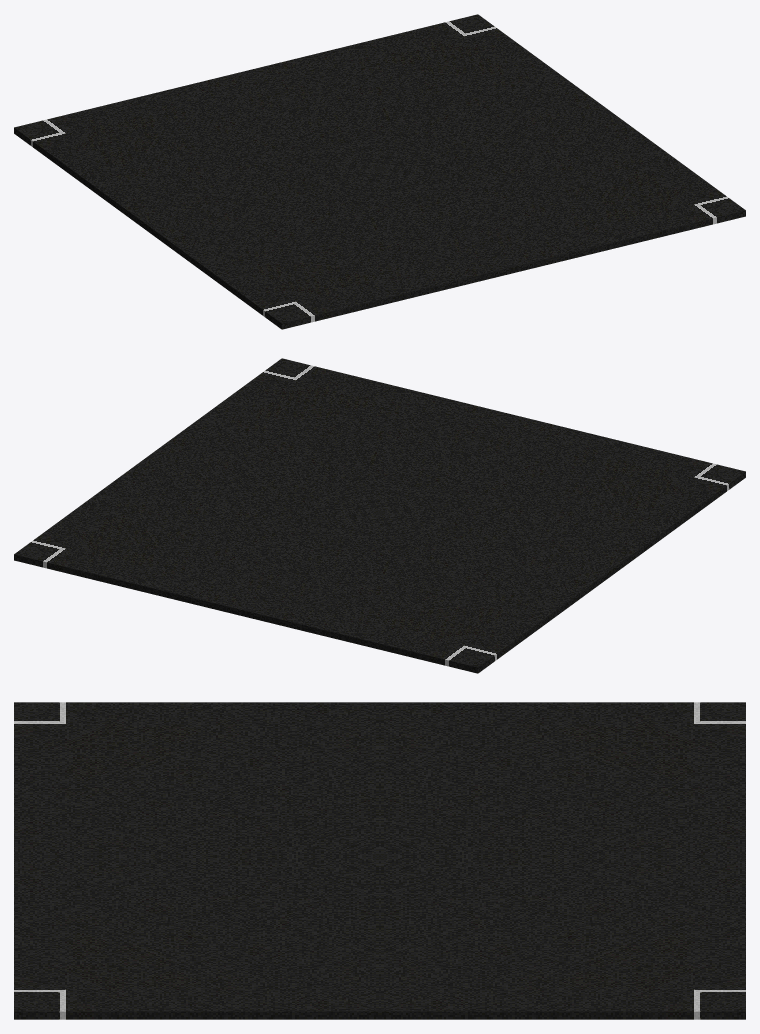
File: road_intersection_4way_01.gltf
3 renders of one model, top to bottom at view 1: azimuth 30°, elevation 25°; view 2: azimuth 150°, elevation 25°; view 3: azimuth 270°, elevation 25°, orthographic. The views are drawn at different scales.
Parts seen in each view (by area): view 1: road_intersection_4way_01; view 2: road_intersection_4way_01; view 3: road_intersection_4way_01.
Boxes of the visible parts, x1,y1,x2,y2 form: road_intersection_4way_01: (14, 14, 745, 329); road_intersection_4way_01: (14, 358, 745, 673); road_intersection_4way_01: (14, 702, 745, 1019).
Bounding box in the file's own units: 8 × 0.1 × 8.
Materials: 1 (1 with a texture image).
